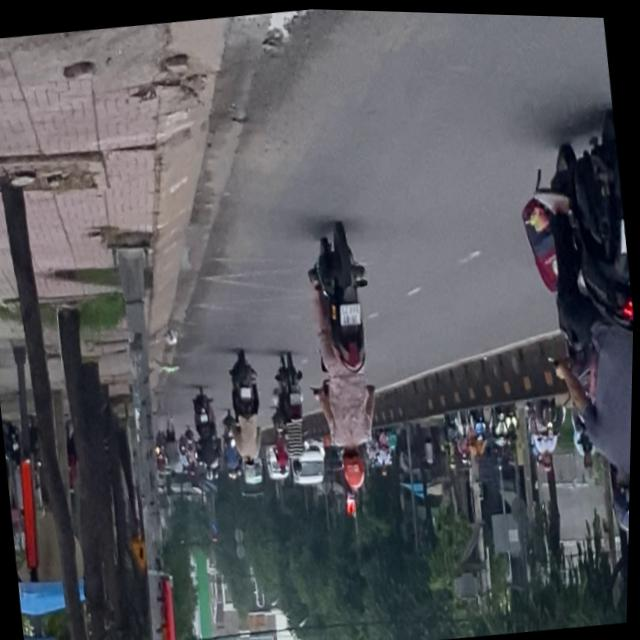helmet: (608, 460, 632, 531), (341, 443, 370, 488)
licenseplate: (505, 101, 638, 542), (296, 218, 396, 492)
nohelmet: (339, 299, 362, 324), (619, 216, 628, 251)
